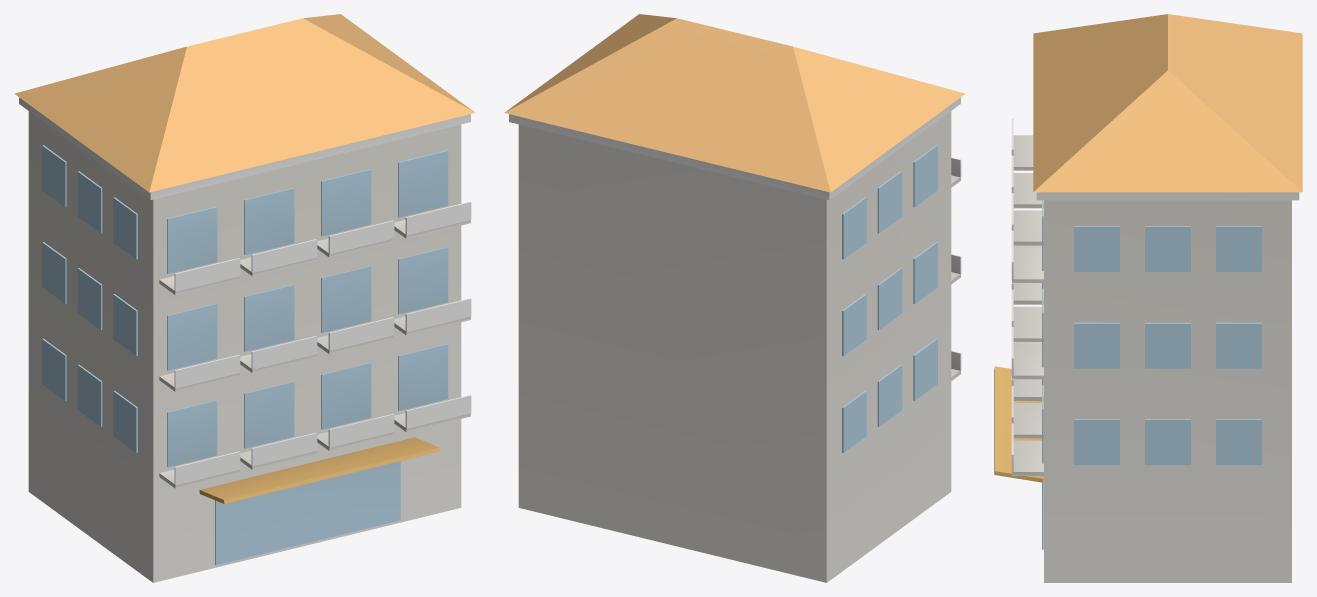
The model's file is VHotel.fbx.
3 renders of one model, left to right at view 1: azimuth 30°, elevation 25°; view 2: azimuth 150°, elevation 25°; view 3: azimuth 270°, elevation 25°, orthographic.
Visible parts, largest first — view 1: VHotel; view 2: VHotel; view 3: VHotel.
Boxes of the visible parts, <box> form: VHotel: <box>14,14,475,582</box>; VHotel: <box>504,14,965,582</box>; VHotel: <box>994,14,1302,582</box>.
Bounding box in the file's own units: 10.6 × 14.5 × 8.7.
